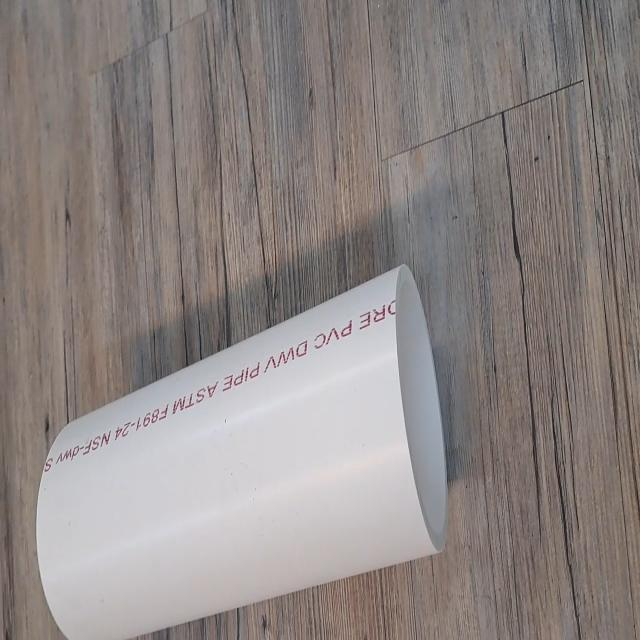CORAL: (32, 259, 447, 640)
